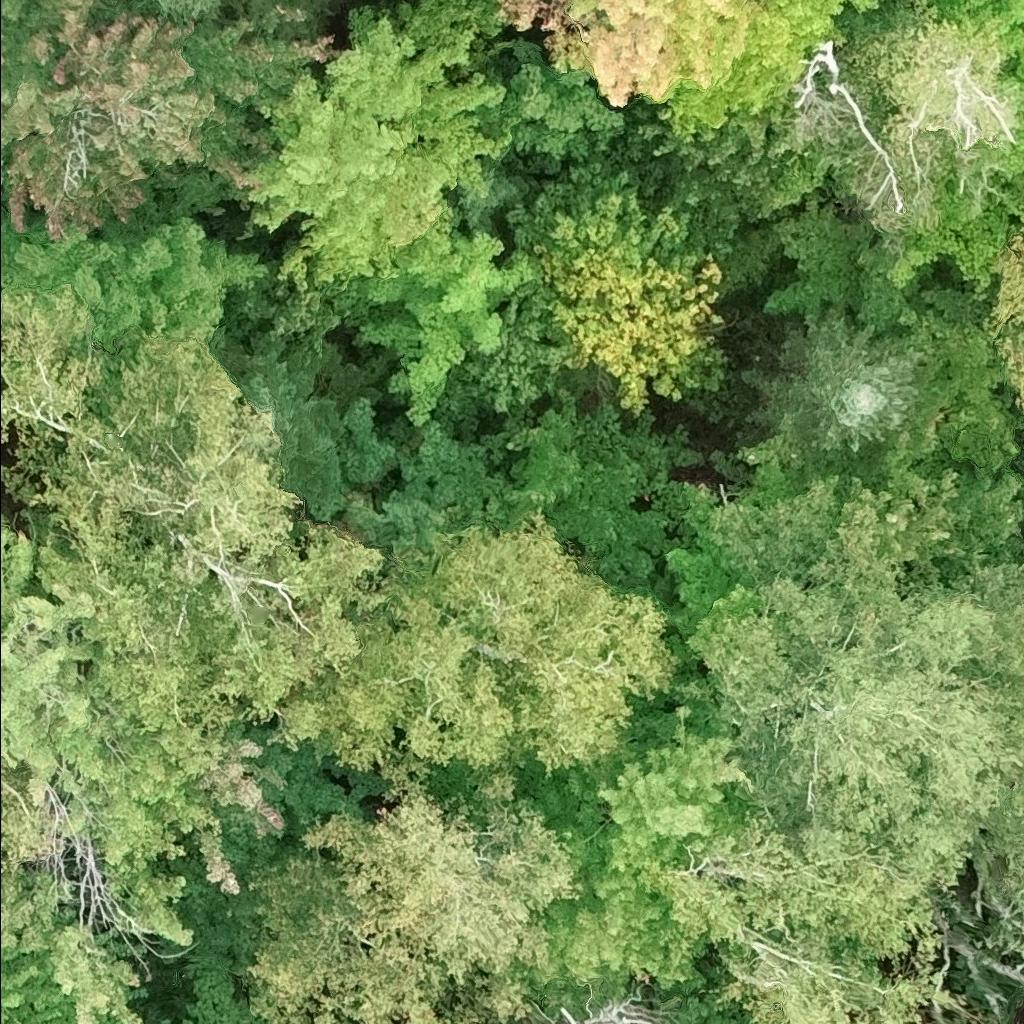crown: (0, 281, 392, 775), (685, 470, 1023, 897), (264, 504, 709, 804), (0, 512, 277, 946), (230, 761, 586, 1023), (238, 0, 518, 301), (0, 0, 346, 242), (637, 806, 974, 1023), (510, 701, 750, 994), (482, 185, 721, 415), (326, 223, 547, 427), (836, 0, 1020, 244), (0, 187, 272, 351), (889, 0, 1023, 297), (656, 0, 885, 147), (740, 307, 930, 456), (0, 872, 152, 1023), (564, 0, 762, 107), (986, 214, 1023, 412), (183, 956, 264, 1023), (531, 985, 665, 1023), (0, 785, 45, 876), (140, 0, 318, 21), (994, 829, 1023, 889), (101, 1019, 120, 1023), (300, 1020, 313, 1023)
